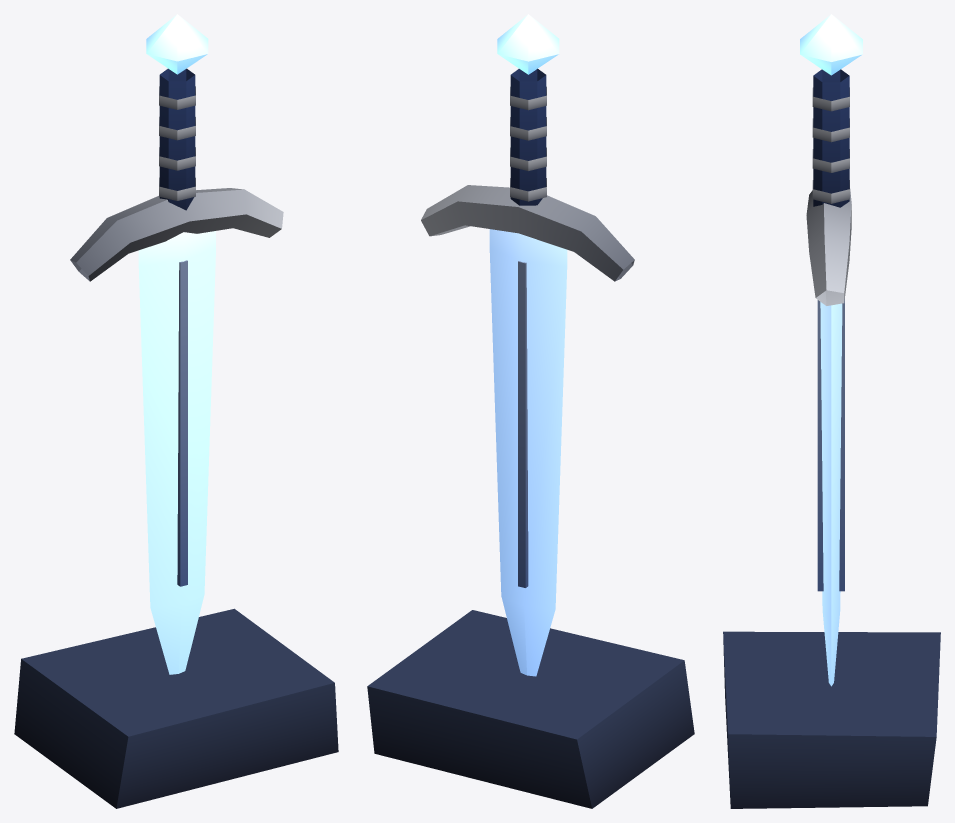
File: relic_blade.glb
3 renders of one model, left to right at view 1: azimuth 30°, elevation 25°; view 2: azimuth 150°, elevation 25°; view 3: azimuth 270°, elevation 25°, orthographic.
Parts seen in each view (by area): view 1: relic_blade_trim, relic_blade_glow; view 2: relic_blade_trim, relic_blade_glow; view 3: relic_blade_trim, relic_blade_glow.
Part boxes in pixels (left/top/right/bottom): relic_blade_trim: left=14, top=68, right=338, bottom=808; relic_blade_glow: left=138, top=14, right=215, bottom=674; relic_blade_trim: left=367, top=68, right=694, bottom=808; relic_blade_glow: left=489, top=14, right=567, bottom=676; relic_blade_trim: left=723, top=69, right=940, bottom=808; relic_blade_glow: left=800, top=14, right=862, bottom=686.
Bounding box in the file's own units: 0.1163 × 0.36 × 0.0961.
